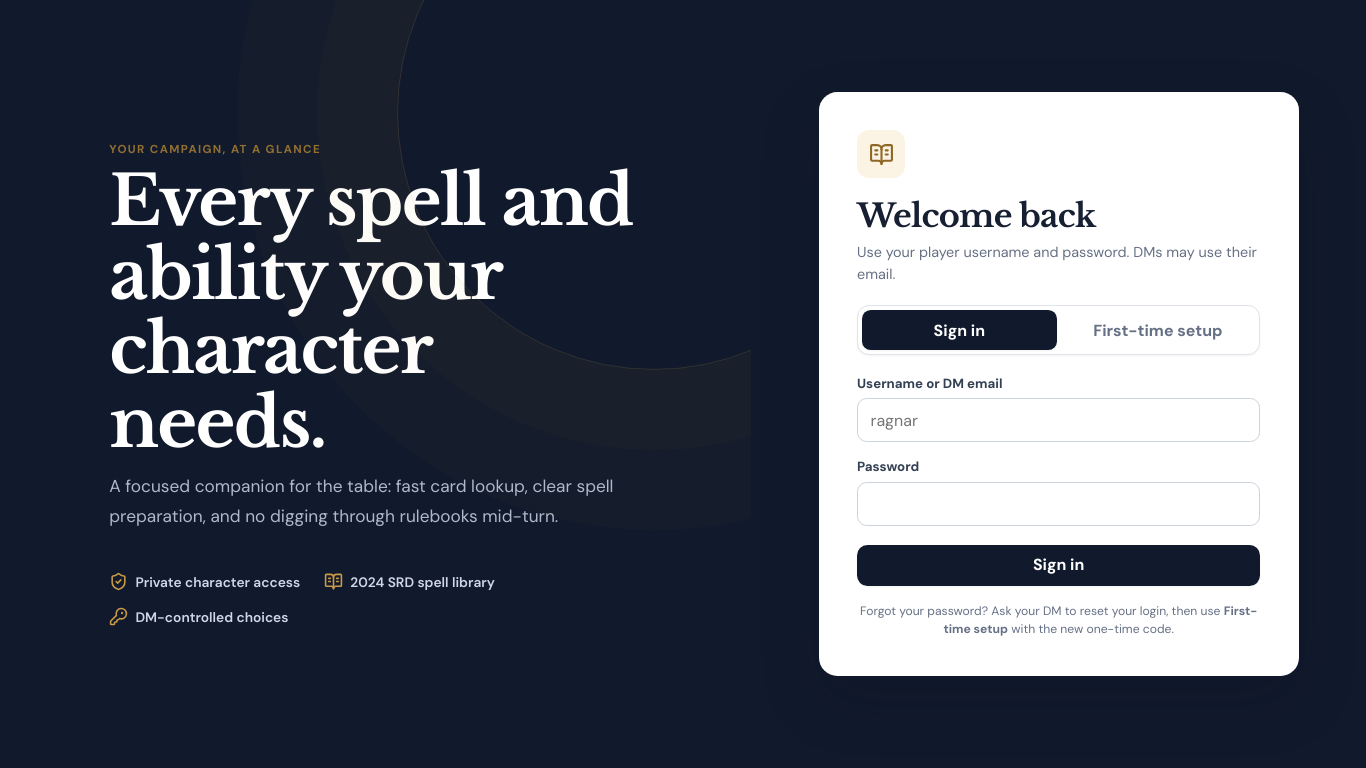
LoginPage › shows the activation fields only during first-time setup
This screenshot has width=1366, height=768.
Expected: the field labelled "Username or DM email" is shown, [857,398,1260,442]
Expected: the field labelled "Activation code" is not shown
Click the tab "First-time setup".
click(1158, 330)  # box [1061,310,1255,350]
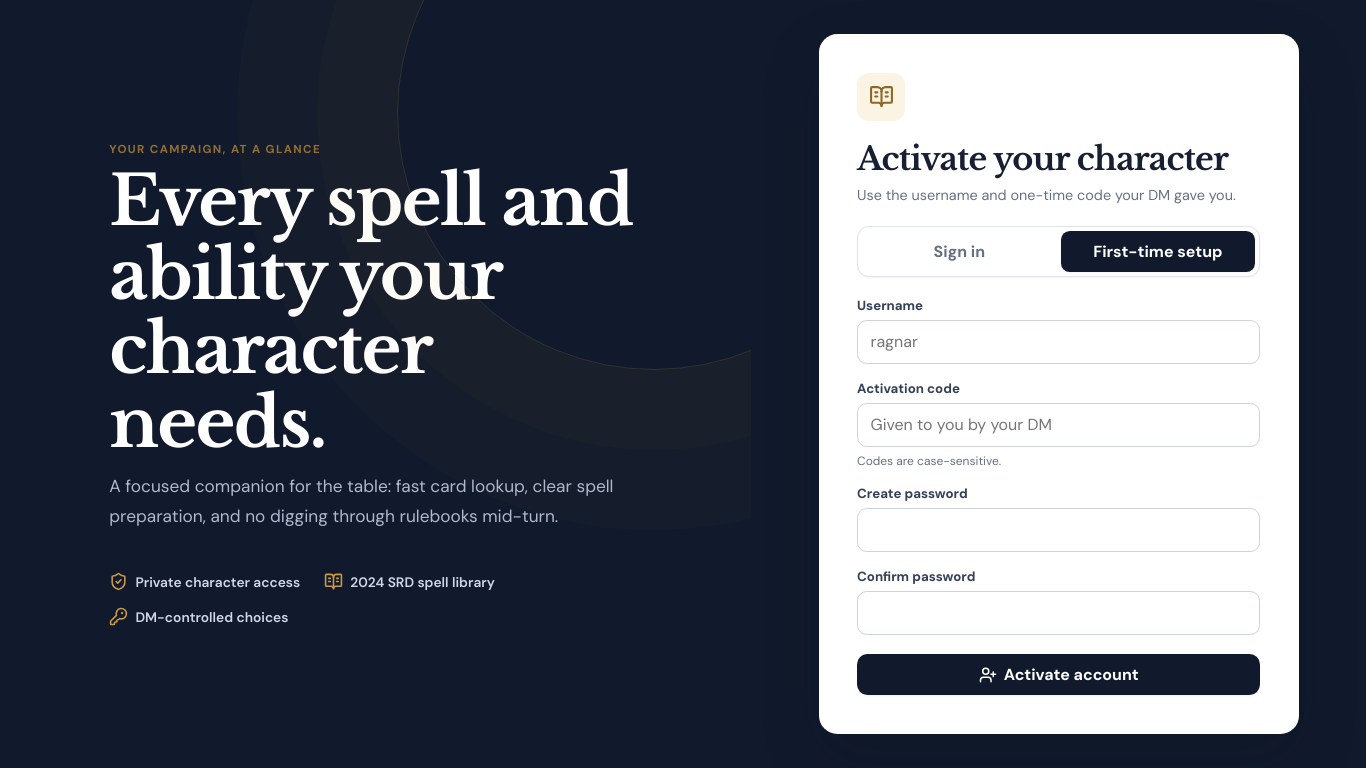
Expected: the field labelled "Username" is shown, [857,320,1260,364]
Expected: the field labelled "Activation code Codes are case-sensitive." is shown, [857,403,1260,447]
Expected: the password field labelled "Confirm password" is shown, [857,591,1260,635]
